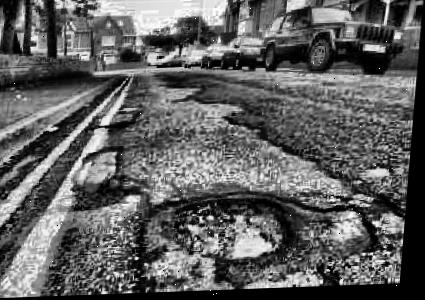pothole: (169, 193, 301, 266)
